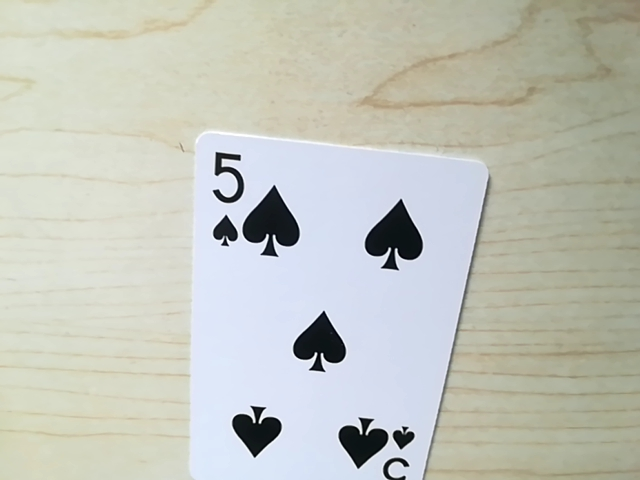ht 5: (198, 144, 251, 257), (373, 425, 417, 480)
